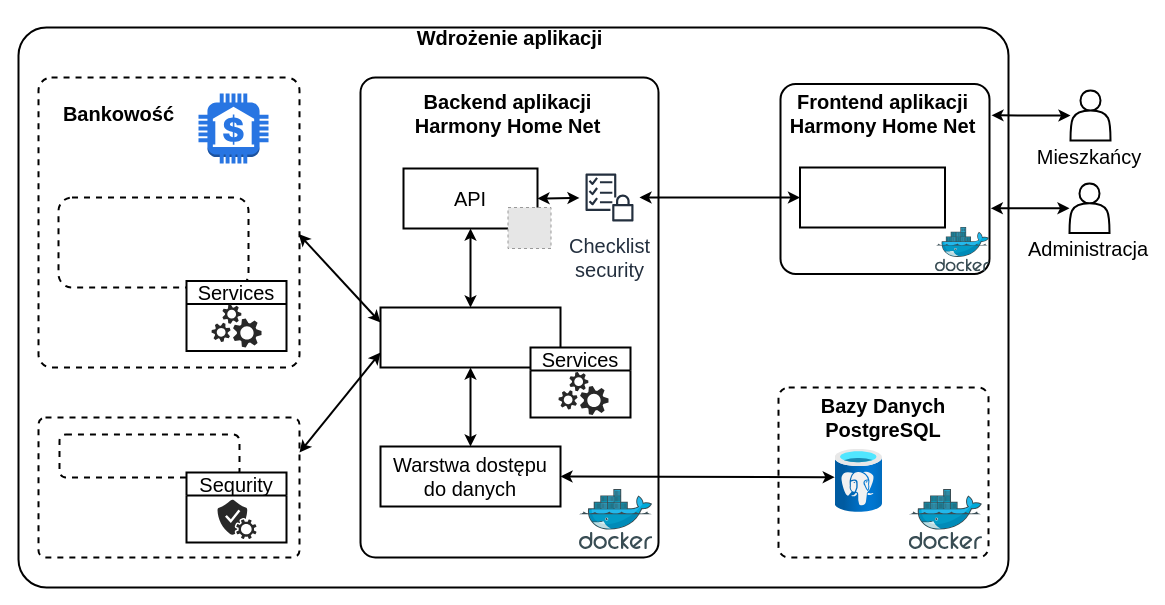
Some shapes in this 1165 by 605 pixel diagram are drawn without their labels. Grey dashed boxes stand in for pictures. The centre of each missing label's shape, as x and y in pixels:
Serwer OAuth 2: the point at 149,455
Systemy urządzeń zewnętrznych np.: liczniki: the point at 153,242
Warstwa logiki biznesowej: the point at 470,337
Warstwa prezentacji: the point at 872,197
